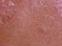plaque psoriasis: (0, 0, 62, 25)
